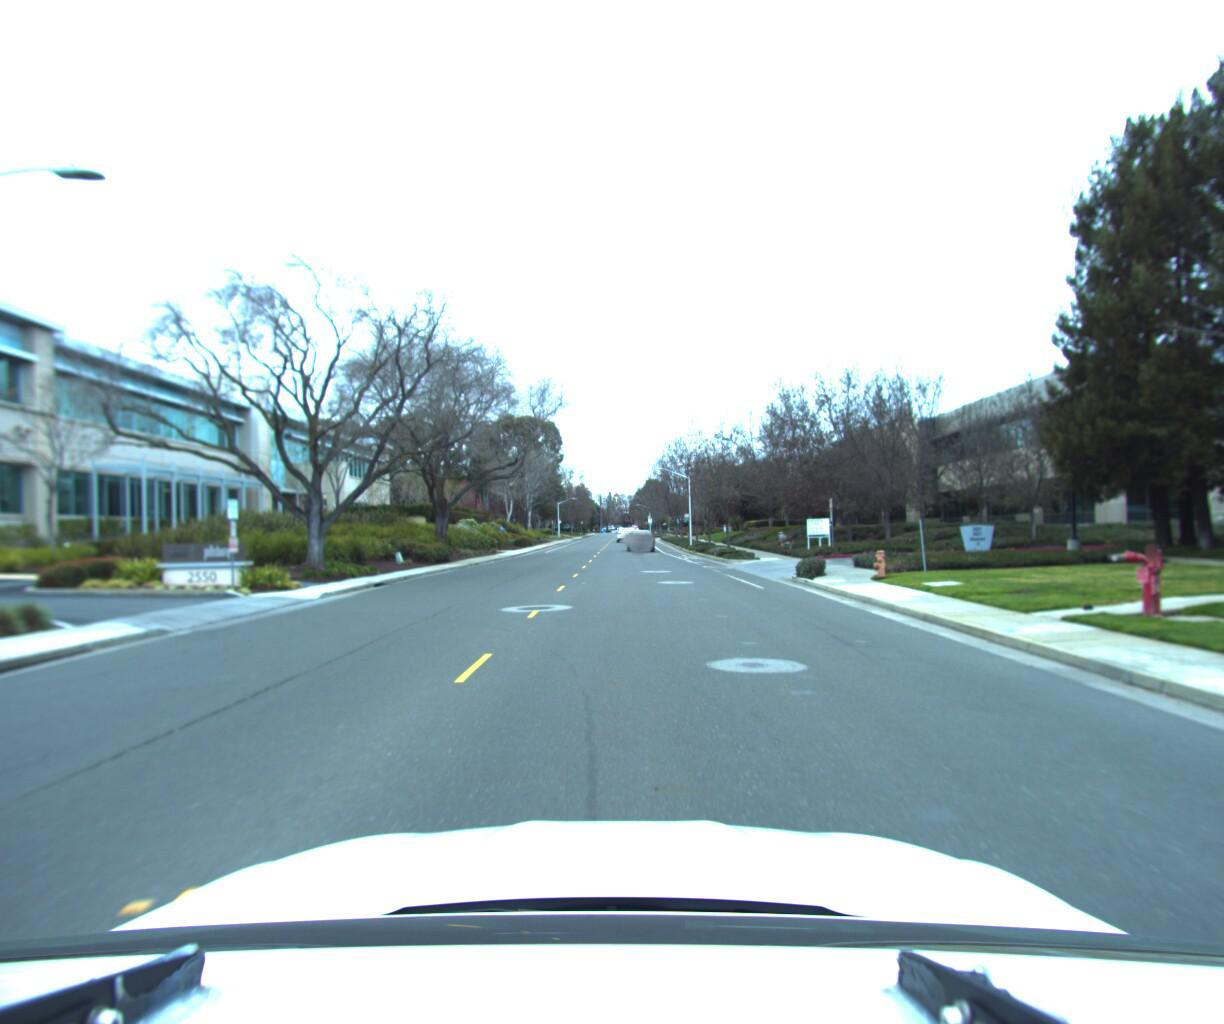car: (626, 524, 656, 546)
